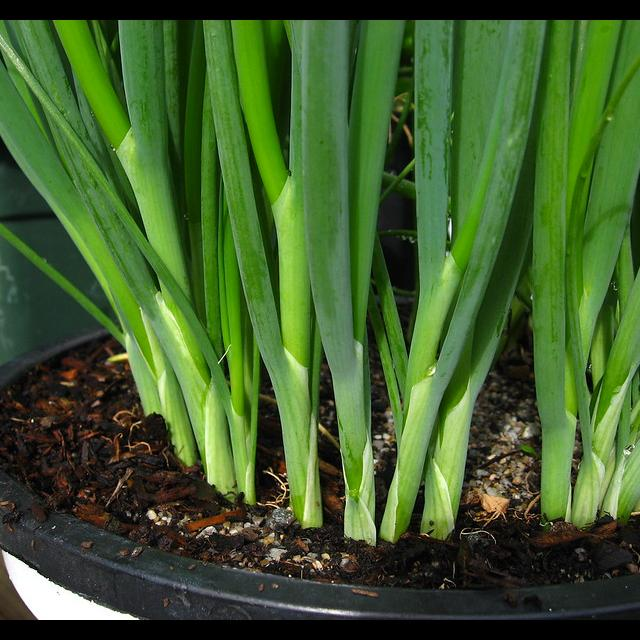green_onion: (0, 20, 402, 527), (372, 20, 546, 542), (532, 21, 640, 528)
